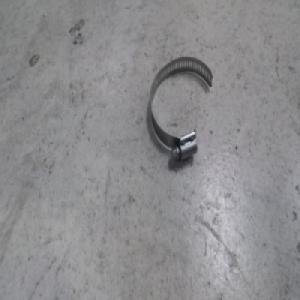AdjustableClamp: (145, 48, 215, 156)
